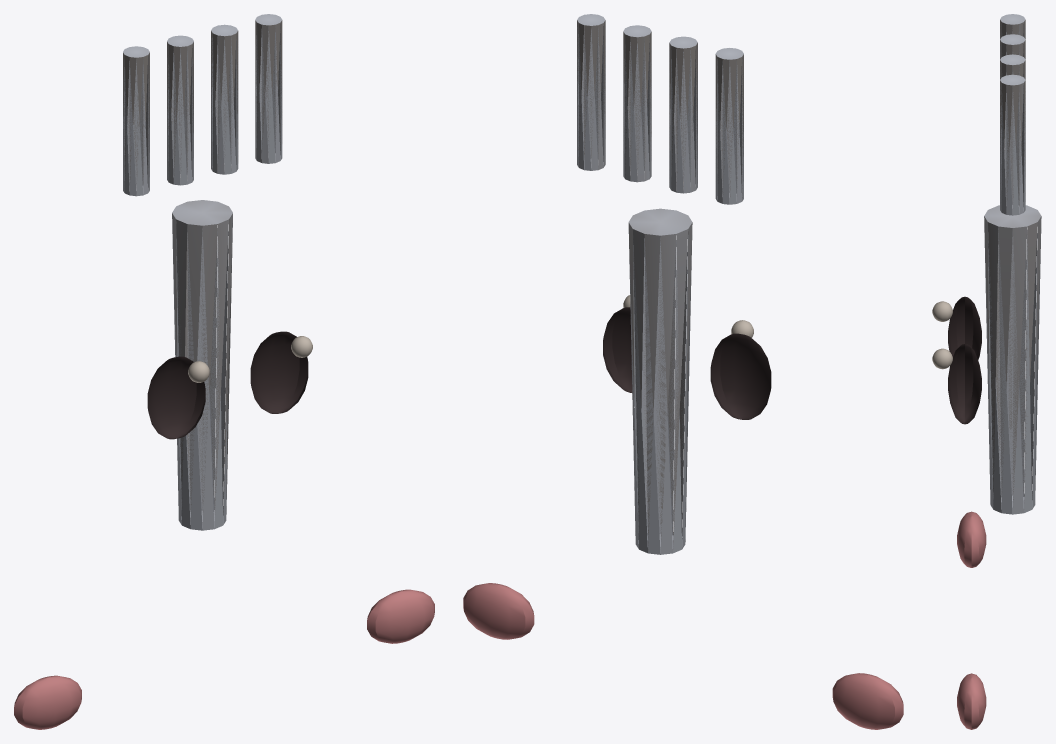
The picture shows the model from 3 angles, left to right: view 1: azimuth 30°, elevation 25°; view 2: azimuth 150°, elevation 25°; view 3: azimuth 270°, elevation 25°; orthographic projection. The views are drawn at different scales.
Parts seen in each view (by area): view 1: pet_p178a3b0d; view 2: pet_p178a3b0d; view 3: pet_p178a3b0d.
Boxes of the visible parts, box(x1,y1,x2,y2) form: pet_p178a3b0d: box(14, 14, 434, 729); pet_p178a3b0d: box(463, 14, 903, 729); pet_p178a3b0d: box(932, 14, 1041, 729).
Bounding box in the file's own units: 0.2861 × 0.4114 × 0.0684.
